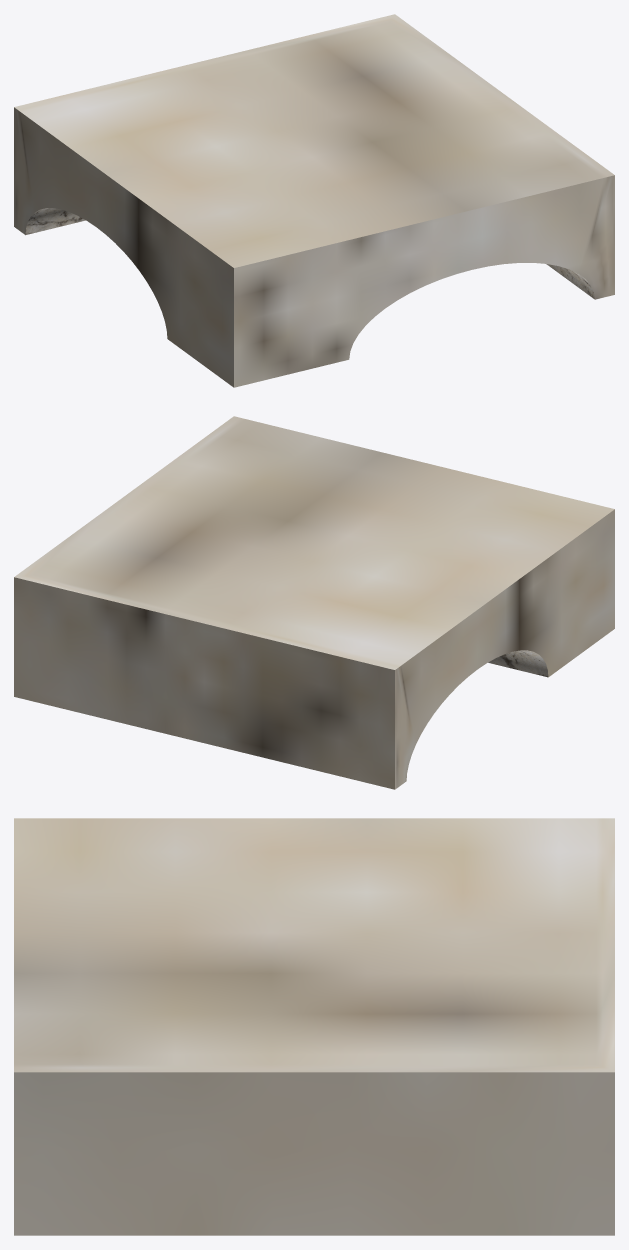
File: Ceiling_Corner_B.fbx
3 renders of one model, top to bottom at view 1: azimuth 30°, elevation 25°; view 2: azimuth 150°, elevation 25°; view 3: azimuth 270°, elevation 25°, orthographic. The views are drawn at different scales.
Visible parts, largest first — view 1: Ceiling_Corner_B; view 2: Ceiling_Corner_B; view 3: Ceiling_Corner_B.
Boxes of the visible parts, x1,y1,x2,y2 form: Ceiling_Corner_B: (14, 14, 614, 387); Ceiling_Corner_B: (14, 416, 614, 789); Ceiling_Corner_B: (14, 818, 614, 1235).
Size of the model in its own units: 2 by 2 by 0.6.
1 material, 1 textured.
